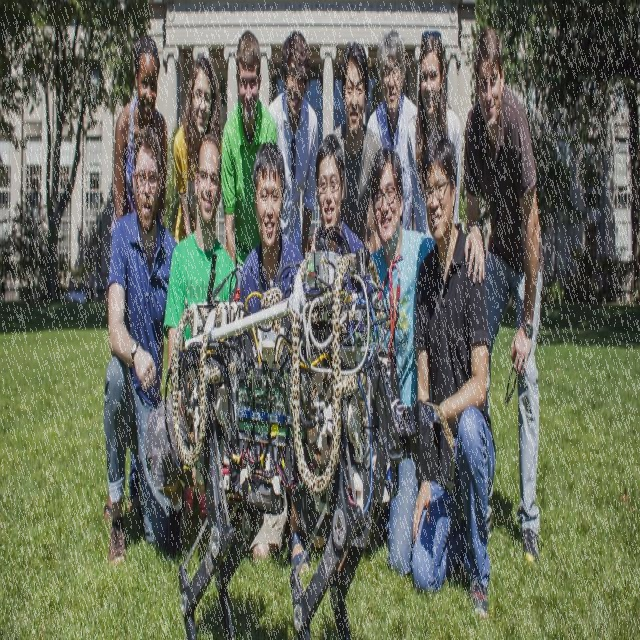pessoa: (306, 140, 486, 582), (142, 127, 248, 568), (460, 22, 544, 572), (409, 125, 497, 622), (102, 121, 182, 574), (234, 137, 316, 577), (102, 32, 168, 530), (222, 29, 280, 290), (298, 131, 372, 335), (266, 28, 320, 266), (406, 27, 464, 241), (331, 41, 384, 257), (366, 24, 418, 232), (172, 51, 224, 248)
